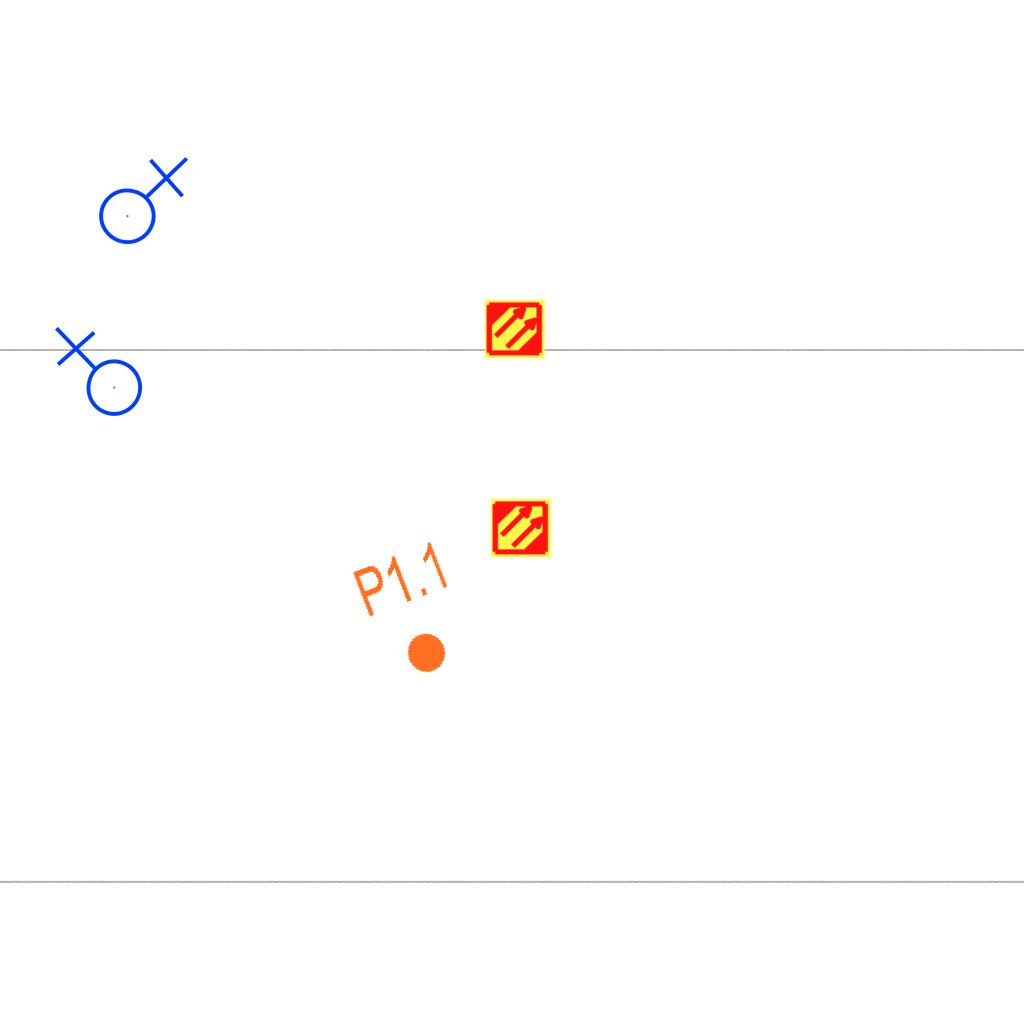ASR_Ansaugrauchmelder: (490, 497, 552, 559), (484, 298, 546, 360)
Downlight_LED_Einbauleuchten_Flur: (348, 536, 481, 690)
Elektroanschluss_allgemein_230V_Geraeteanschlussdose_230V: (50, 326, 144, 425), (90, 152, 189, 246)
